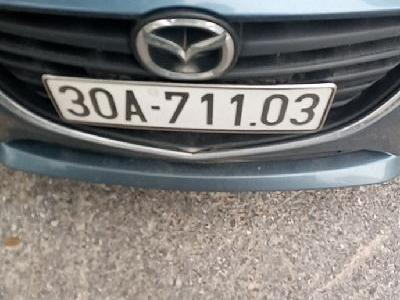lisence: (42, 75, 336, 135)
